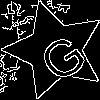G: (30, 25, 91, 85)
